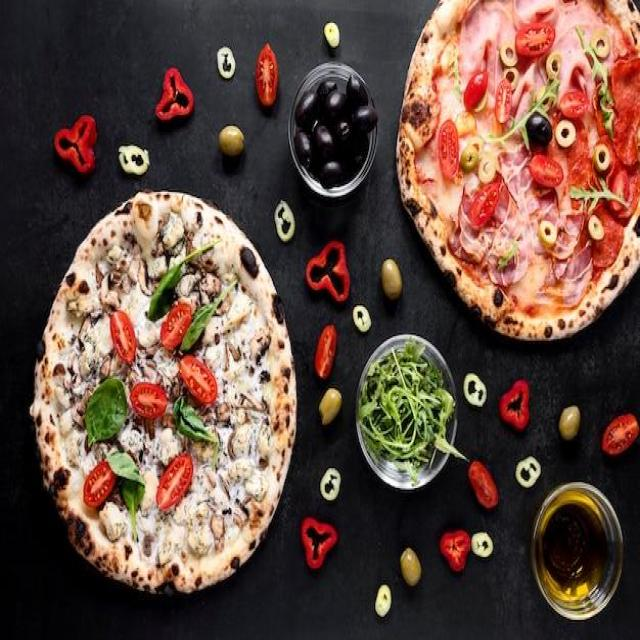basil: (481, 85, 566, 151), (148, 245, 216, 322), (181, 282, 241, 354), (578, 21, 615, 130), (108, 451, 148, 541), (87, 378, 133, 446), (570, 176, 629, 218), (170, 395, 215, 446), (441, 41, 460, 96), (493, 234, 518, 274)
olive: (376, 256, 404, 298), (340, 128, 364, 169), (312, 114, 334, 158), (522, 113, 553, 144), (220, 122, 246, 158), (343, 74, 368, 110), (557, 404, 583, 436), (321, 388, 341, 424), (352, 108, 381, 132), (402, 548, 421, 584), (590, 138, 610, 172), (554, 117, 574, 151), (296, 94, 316, 127), (293, 124, 311, 159), (322, 156, 343, 186), (541, 216, 560, 246), (546, 47, 562, 80), (588, 210, 605, 241), (318, 77, 339, 102), (499, 40, 518, 66), (594, 32, 610, 61), (457, 147, 476, 170), (503, 68, 518, 92), (336, 114, 352, 136), (481, 155, 493, 183)
pepperoni: (607, 58, 640, 166), (578, 202, 620, 266), (557, 117, 588, 187), (605, 154, 640, 215)
pizza: (33, 188, 294, 598), (395, 0, 640, 342)
